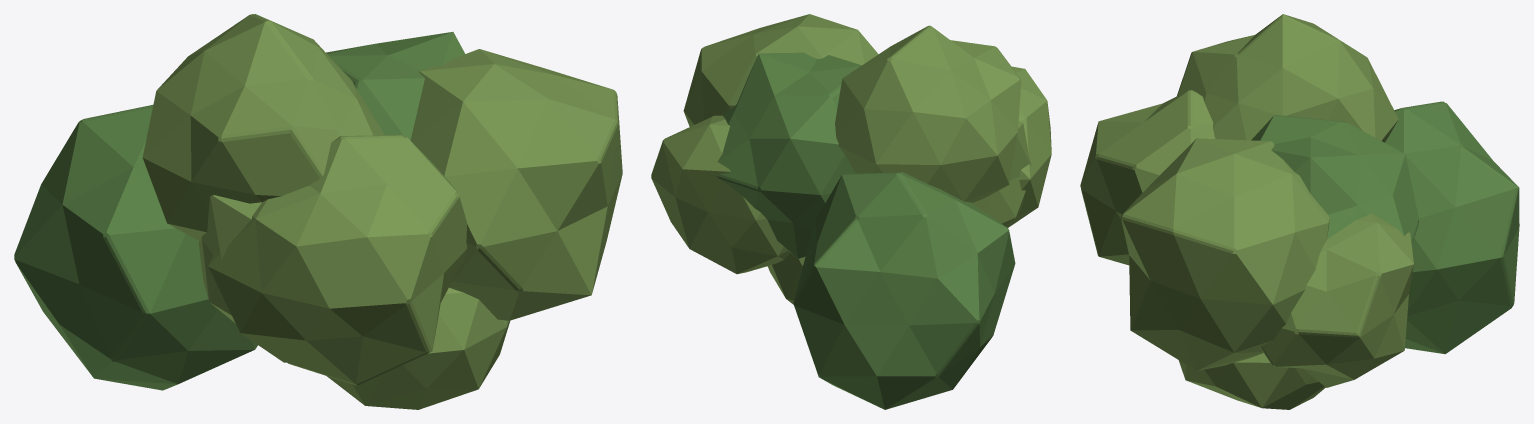
File: Shrub.fbx
3 renders of one model, left to right at view 1: azimuth 30°, elevation 25°; view 2: azimuth 150°, elevation 25°; view 3: azimuth 270°, elevation 25°, orthographic. The views are drawn at different scales.
Parts seen in each view (by area): view 1: Shrub; view 2: Shrub; view 3: Shrub.
Boxes of the visible parts, bbox=[...] form: Shrub: bbox=[14, 14, 622, 409]; Shrub: bbox=[651, 14, 1051, 409]; Shrub: bbox=[1080, 14, 1519, 409].
Bounding box in the file's own units: 1.66 × 1.38 × 1.58.
